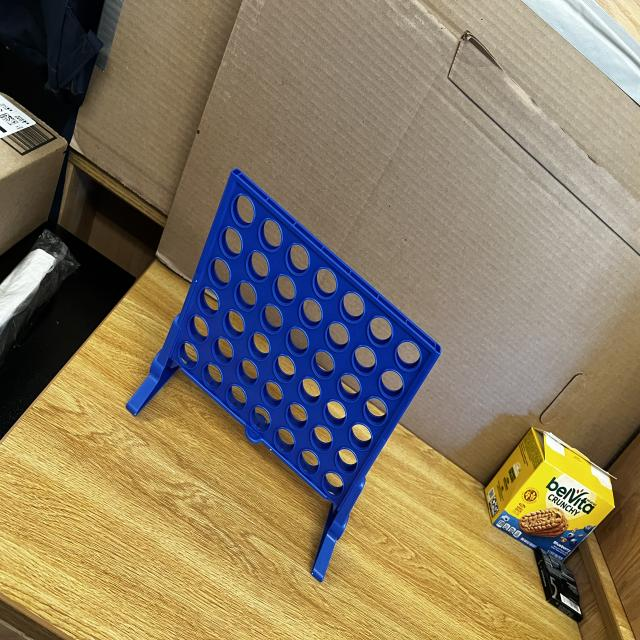Board: (166, 165, 442, 514)
No Piece: (392, 336, 423, 373), (377, 364, 406, 403), (364, 312, 395, 348), (311, 264, 339, 303), (257, 212, 282, 255), (284, 240, 312, 278), (258, 298, 285, 337), (231, 189, 256, 231), (296, 293, 323, 331), (338, 289, 366, 325), (334, 369, 362, 405), (362, 392, 390, 428), (324, 316, 350, 354), (232, 274, 258, 312), (218, 224, 244, 261), (244, 247, 270, 284), (206, 253, 232, 290), (271, 269, 296, 307), (284, 324, 311, 359), (245, 327, 272, 362), (352, 342, 378, 378), (224, 378, 249, 415), (346, 419, 374, 452), (310, 347, 337, 381), (247, 400, 273, 435), (271, 423, 297, 458), (270, 353, 298, 385), (221, 307, 247, 340), (334, 445, 360, 478), (319, 467, 345, 500), (175, 337, 200, 371), (297, 372, 321, 407), (322, 396, 348, 428), (295, 446, 321, 478), (200, 357, 223, 393), (196, 284, 221, 317), (284, 398, 308, 432), (188, 313, 211, 346), (237, 354, 260, 387), (211, 334, 235, 365), (312, 423, 334, 456), (260, 379, 284, 409)
